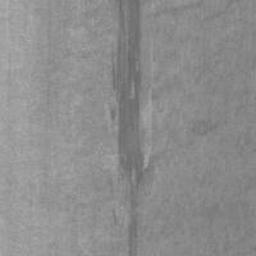Inclusion: (108, 0, 145, 256)
